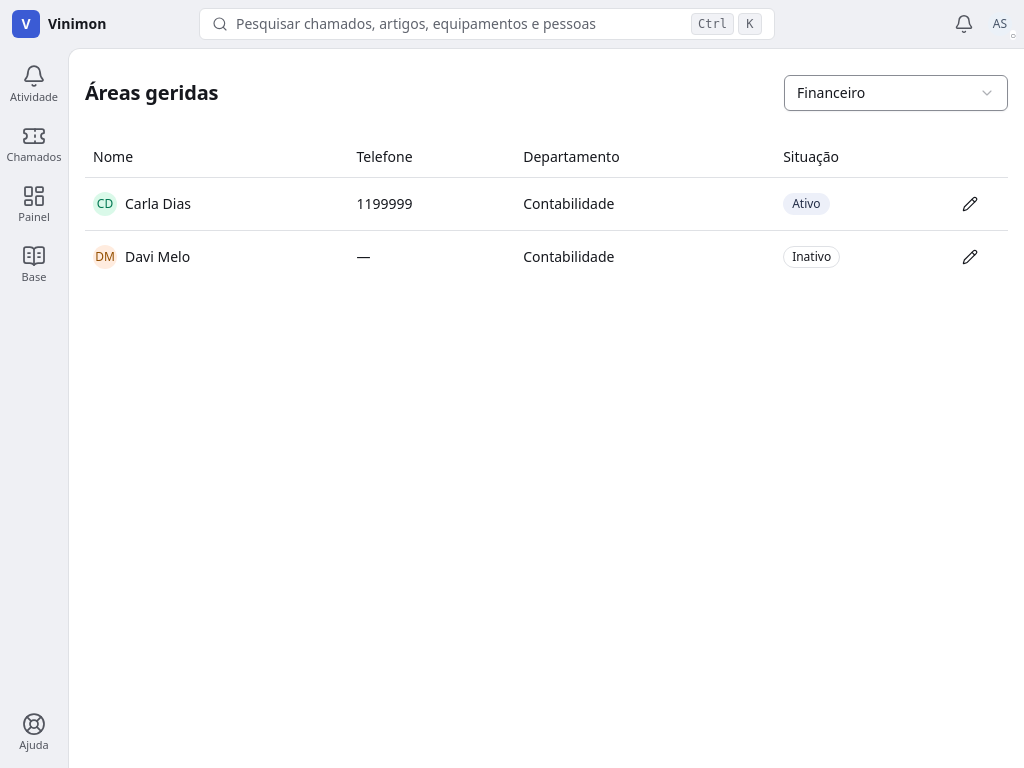
Test case: /areas-geridas › (c) 400 com detalhes aparece no campo
This screenshot has width=1024, height=768.
Click the button named "Editar Carla Dias" at (970, 204), box left=952, top=186, right=988, bottom=222
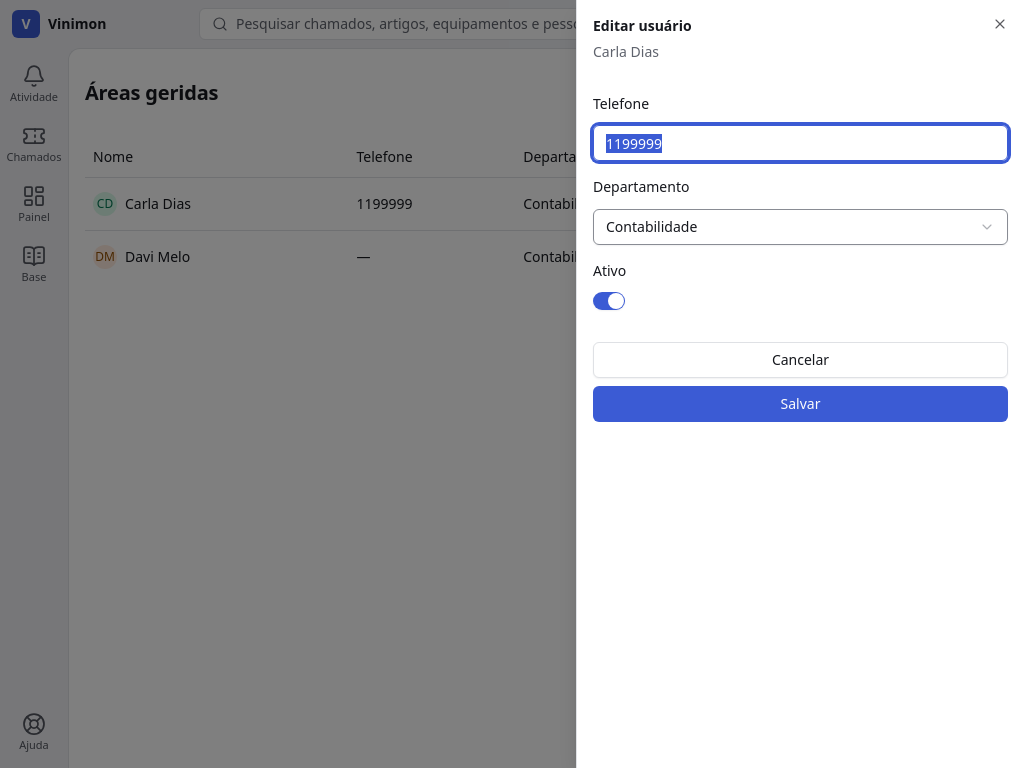
Click the button "Salvar" at (800, 404), box left=593, top=386, right=1008, bottom=422
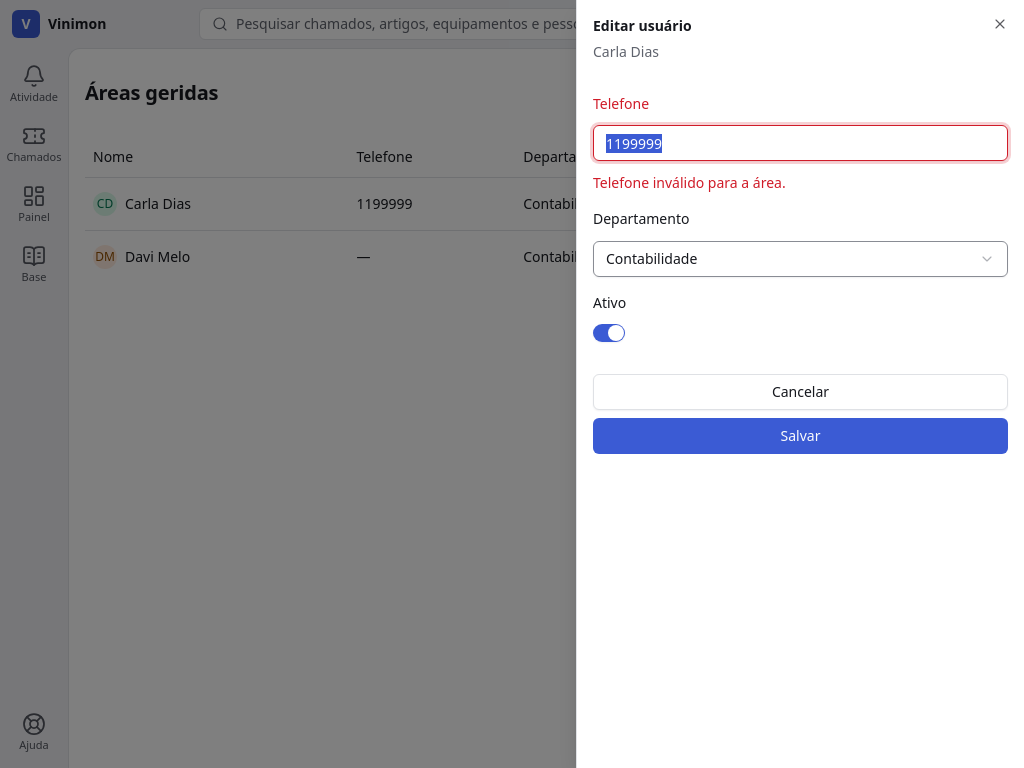
Expected: the text "Telefone inválido para a área." is shown, left=593, top=173, right=786, bottom=192
